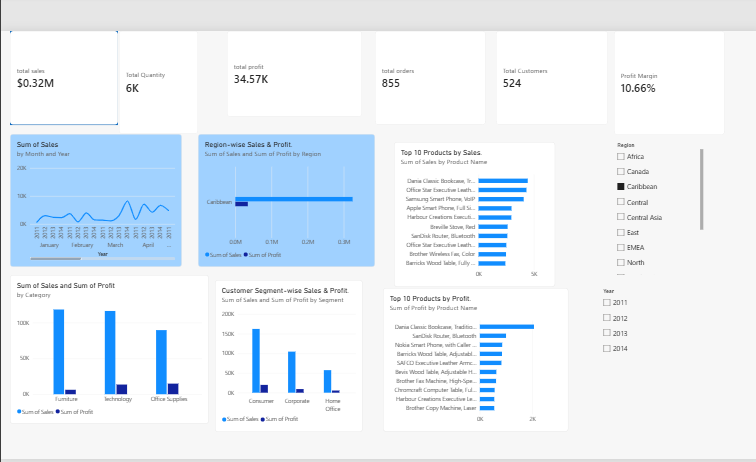

This screenshot's page, from the dashboard's own definition file:
{"tool":"powerbi","page":{"name":"Sales & Product Analysis","canvas":[1920,1080],"ordinal":0},"visuals":[{"type":"lineChart","fields":{"Category":["Retail_Superstore.Order Date.Variation.Date Hierarchy.Month","Retail_Superstore.Order Date.Variation.Date Hierarchy.Year"],"Y":["Sum(Retail_Superstore.Sales)"]},"box":[0,260,456.9,335.4],"z":0},{"type":"clusteredColumnChart","fields":{"Category":["Retail_Superstore.Category"],"Y":["Sum(Retail_Superstore.Sales)","Sum(Retail_Superstore.Profit)"]},"box":[0,615,522.9,375],"z":1000},{"type":"clusteredBarChart","title":"Region-wise Sales & Profit.","fields":{"Category":["Retail_Superstore.Region"],"Y":["Sum(Retail_Superstore.Sales)","Sum(Retail_Superstore.Profit)"]},"box":[497.5,217.5,445,377.5],"z":2000},{"type":"clusteredColumnChart","title":"Customer Segment-wise Sales & Profit.","fields":{"Category":["Retail_Superstore.Segment"],"Y":["Sum(Retail_Superstore.Sales)","Sum(Retail_Superstore.Profit)"]},"box":[480,595,372.4,382.9],"z":3000},{"type":"clusteredBarChart","title":"Top 10 Products by Sales.","fields":{"Category":["Retail_Superstore.Product Name"],"Y":["Sum(Retail_Superstore.Sales)"]},"box":[962.5,217.5,356.5,404.1],"z":4000},{"type":"clusteredBarChart","title":"Top 10 Products by Profit.","fields":{"Category":["Retail_Superstore.Product Name"],"Y":["Sum(Retail_Superstore.Profit)"]},"box":[835,615,467.5,361.8],"z":5000},{"type":"cardVisual","fields":{"Data":["Retail_Superstore.total sales"]},"box":[0,0,295.8,261.5],"z":6000},{"type":"cardVisual","fields":{"Data":["Retail_Superstore.Total Quantity"]},"box":[324.8,0,198.1,287.9],"z":7000},{"type":"cardVisual","fields":{"Data":["Retail_Superstore.total profit"]},"box":[570.5,0,372.4,261.5],"z":8000},{"type":"cardVisual","fields":{"Data":["Retail_Superstore.total orders"]},"box":[942,0,304,261],"z":9000},{"type":"cardVisual","fields":{"Data":["Retail_Superstore.Total Customers"]},"box":[1246,0,299,261],"z":10000},{"type":"cardVisual","fields":{"Data":["Retail_Superstore.Profit Margin"]},"box":[1545,0,279.9,261.5],"z":11000},{"type":"slicer","fields":{"Values":["Retail_Superstore.Order Date.Variation.Date Hierarchy.Year"]},"box":[1320,665,295,375],"z":12000},{"type":"slicer","fields":{"Values":["Retail_Superstore.Region"]},"box":[1320,260,225,335],"z":13000}]}

Visuals, with their boxes on the page's 1920x1080 design canvas (x1, y1, x2, y2). These are canvas units, not pixel positions in the 756x462 screenshot, which may show the page scaled, cropped or inside an application window:
lineChart - Retail_Superstore.Order Date.Variation.Date Hierarchy.Month x Retail_Superstore.Order Date.Variation.Date Hierarchy.Year: BBox(0, 260, 457, 595)
clusteredColumnChart - Retail_Superstore.Category x Sum(Retail_Superstore.Sales): BBox(0, 615, 523, 990)
"Region-wise Sales & Profit." clusteredBarChart: BBox(498, 218, 942, 595)
"Customer Segment-wise Sales & Profit." clusteredColumnChart: BBox(480, 595, 852, 978)
"Top 10 Products by Sales." clusteredBarChart: BBox(962, 218, 1319, 622)
"Top 10 Products by Profit." clusteredBarChart: BBox(835, 615, 1302, 977)
cardVisual - Retail_Superstore.total sales: BBox(0, 0, 296, 262)
cardVisual - Retail_Superstore.Total Quantity: BBox(325, 0, 523, 288)
cardVisual - Retail_Superstore.total profit: BBox(570, 0, 943, 262)
cardVisual - Retail_Superstore.total orders: BBox(942, 0, 1246, 261)
cardVisual - Retail_Superstore.Total Customers: BBox(1246, 0, 1545, 261)
cardVisual - Retail_Superstore.Profit Margin: BBox(1545, 0, 1825, 262)
slicer - Retail_Superstore.Order Date.Variation.Date Hierarchy.Year: BBox(1320, 665, 1615, 1040)
slicer - Retail_Superstore.Region: BBox(1320, 260, 1545, 595)
